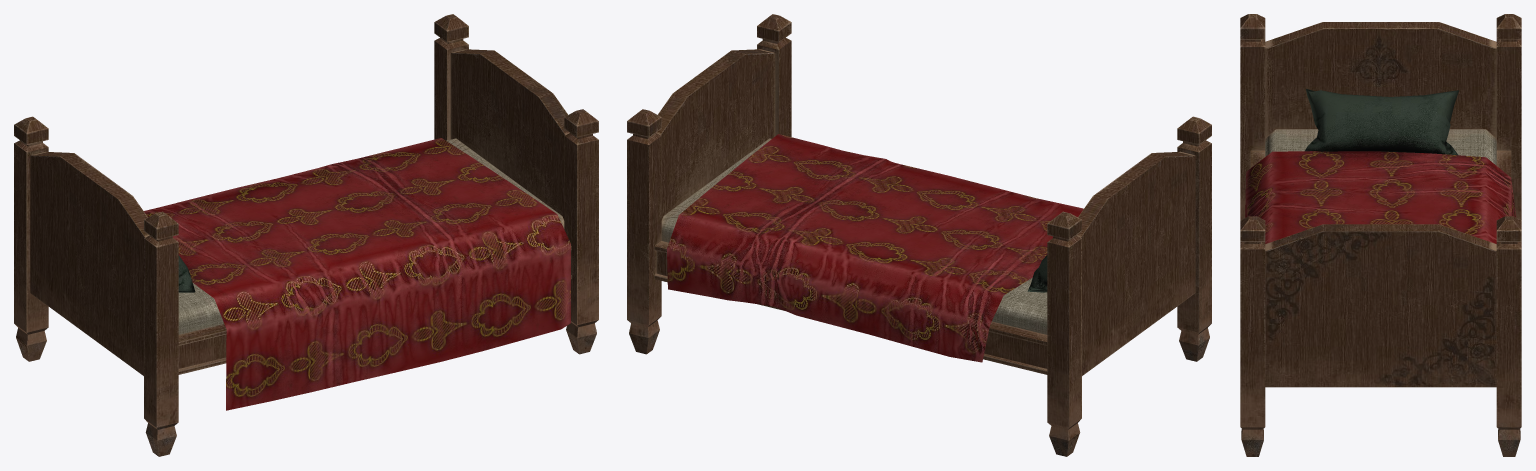
File: bed.fbx
3 views of the same model, side by side, from view 1: azimuth 30°, elevation 25°; view 2: azimuth 150°, elevation 25°; view 3: azimuth 270°, elevation 25° (orthographic).
Parts seen in each view (by area): view 1: covering, bed.001; view 2: bed.001, covering; view 3: bed.001, covering.
Boxes of the visible parts, bbox=[...] form: covering: bbox=[144, 138, 570, 410]; bed.001: bbox=[14, 14, 598, 456]; bed.001: bbox=[627, 14, 1211, 456]; covering: bbox=[667, 134, 1083, 362]; bed.001: bbox=[1240, 14, 1521, 456]; covering: bbox=[1245, 89, 1516, 243].
Bounding box in the file's own units: 5989 × 3097 × 3344.
2 materials, 2 textured.
